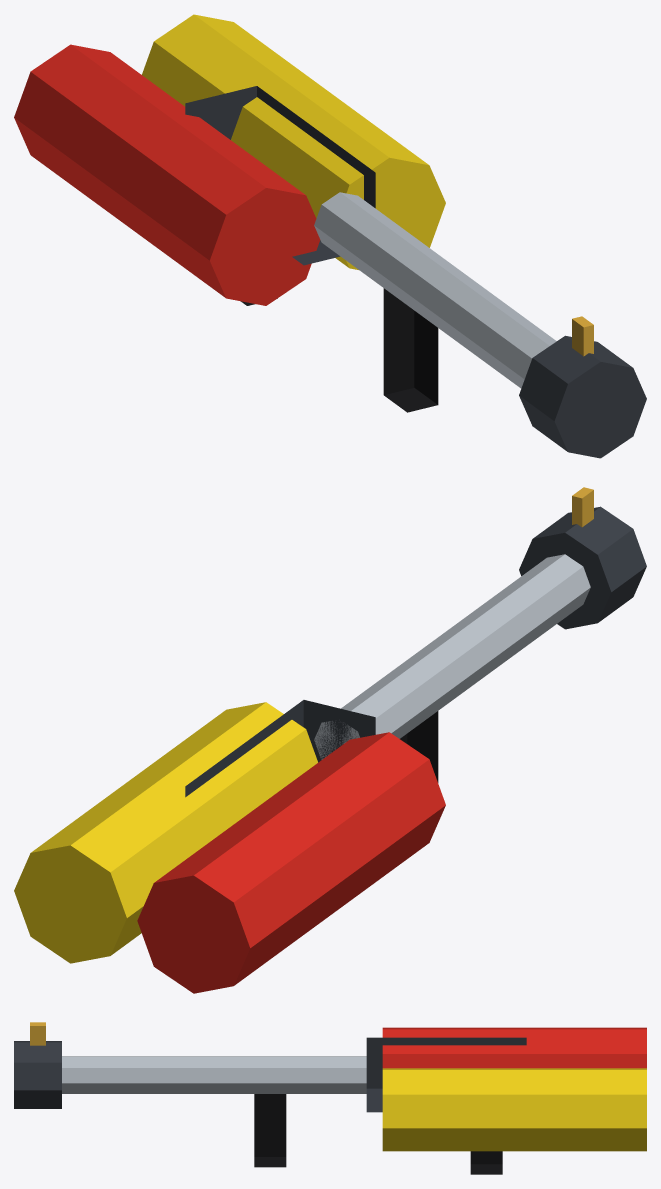
Rendered from Weapon_Flamethrower.obj.
3 views of the same model, one above another, from view 1: azimuth 30°, elevation 25°; view 2: azimuth 150°, elevation 25°; view 3: azimuth 270°, elevation 25° (orthographic). The views are drawn at different scales.
Visible parts, largest first — view 1: FuelTankLeft, FuelTankRight, FlamePipe, FlameNozzle, FrontGrip, RegulatorBody, Igniter; view 2: FuelTankLeft, FuelTankRight, FlamePipe, FlameNozzle, RegulatorBody, FrontGrip, Igniter; view 3: FuelTankRight, FlamePipe, FuelTankLeft, FlameNozzle, RegulatorBody, FrontGrip, RearGrip, Igniter.
Boxes of the visible parts, x1,y1,x2,y2 form: FuelTankLeft: (14, 44, 320, 305); FuelTankRight: (142, 14, 445, 269); FlamePipe: (314, 192, 556, 388); FlameNozzle: (519, 335, 646, 458); FrontGrip: (383, 288, 438, 412); RegulatorBody: (185, 86, 375, 265); Igniter: (572, 316, 593, 356); FuelTankLeft: (137, 732, 445, 993); FuelTankRight: (14, 702, 317, 963); FlamePipe: (314, 554, 590, 759); FlameNozzle: (519, 506, 646, 629); RegulatorBody: (185, 700, 375, 797); FrontGrip: (400, 711, 438, 782); Igniter: (572, 487, 593, 527); FuelTankRight: (382, 1068, 646, 1151); FlamePipe: (62, 1056, 366, 1093); FuelTankLeft: (382, 1027, 646, 1068); FlameNozzle: (14, 1041, 61, 1108); RegulatorBody: (366, 1037, 526, 1112); FrontGrip: (254, 1094, 286, 1167); RearGrip: (470, 1151, 502, 1174); Igniter: (30, 1022, 45, 1045).
Size of the model in its own units: 0.23 by 0.2 by 0.79.
